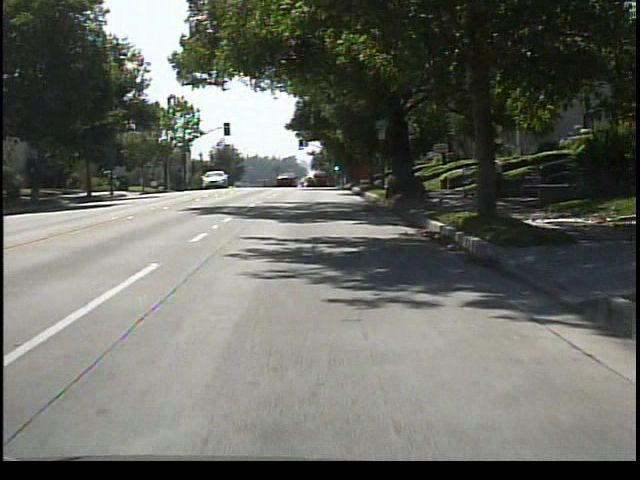person: (482, 152, 509, 199)
